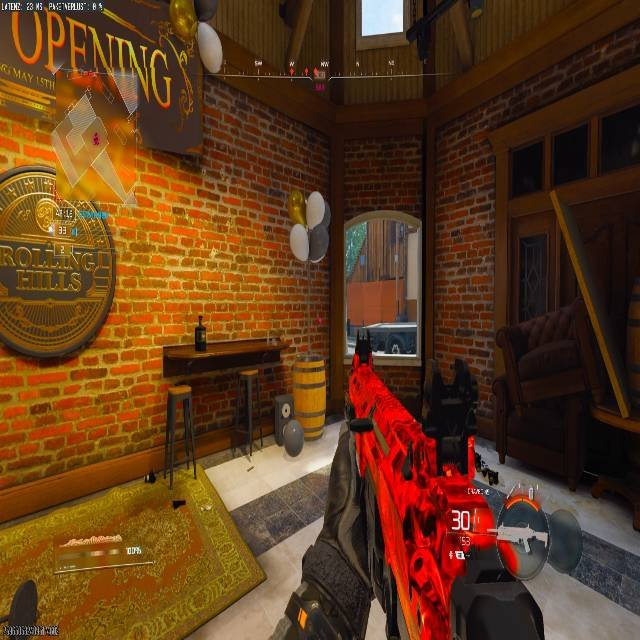head: (451, 358, 469, 382)
player: (428, 357, 481, 476)
